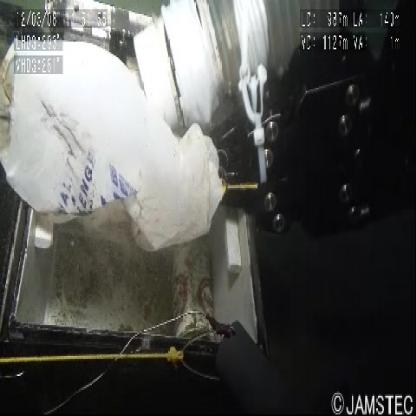Rov: (39, 1, 416, 316), (315, 376, 416, 416)
Rác: (1, 21, 234, 279)
